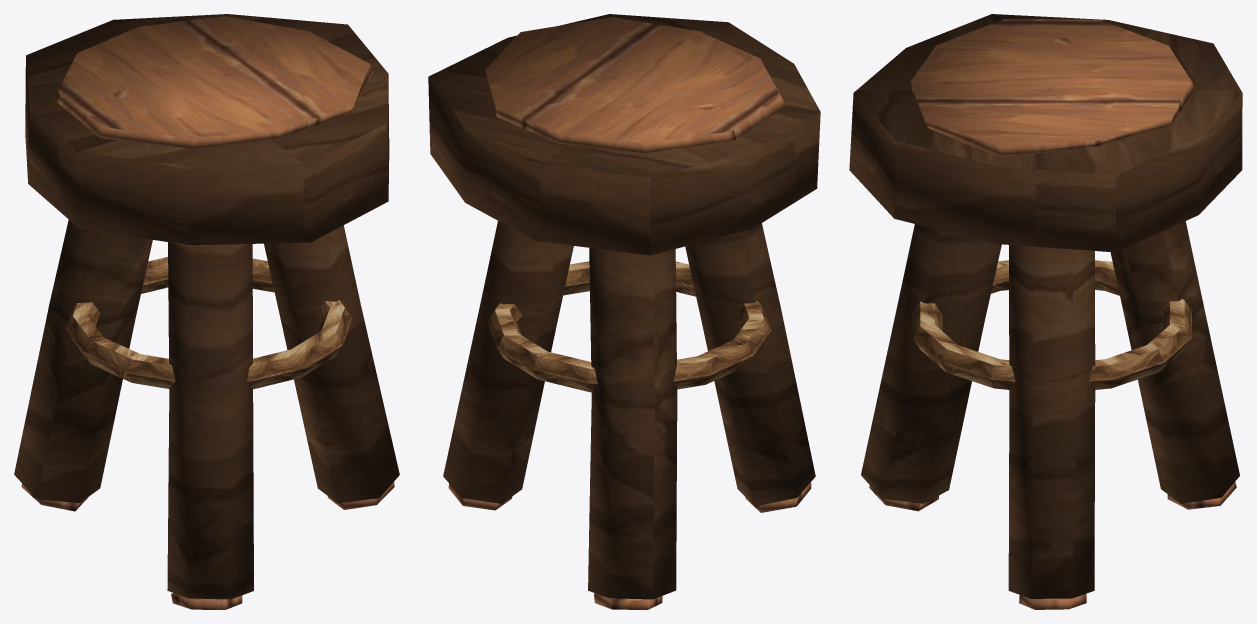
Rendered from shack_stool.glb.
3 views of the same model, side by side, from view 1: azimuth 30°, elevation 25°; view 2: azimuth 150°, elevation 25°; view 3: azimuth 270°, elevation 25° (orthographic).
Parts seen in each view (by area): view 1: model; view 2: model; view 3: model.
Boxes of the visible parts, box(x1,y1,x2,y2) form: model: box(14, 14, 399, 609); model: box(428, 14, 820, 609); model: box(849, 14, 1242, 609).
Size of the model in its own units: 0.3687 by 0.4701 by 0.3682.
Materials: 4 (4 with a texture image).
